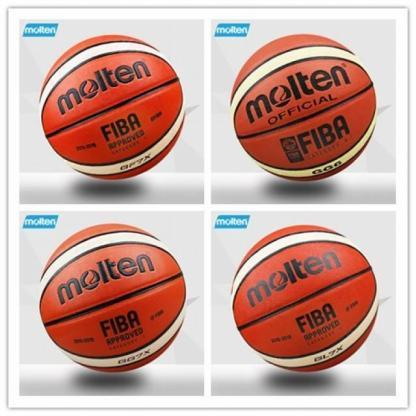basketball: (231, 225, 379, 372), (40, 224, 186, 372), (231, 35, 376, 182), (38, 33, 184, 178)
